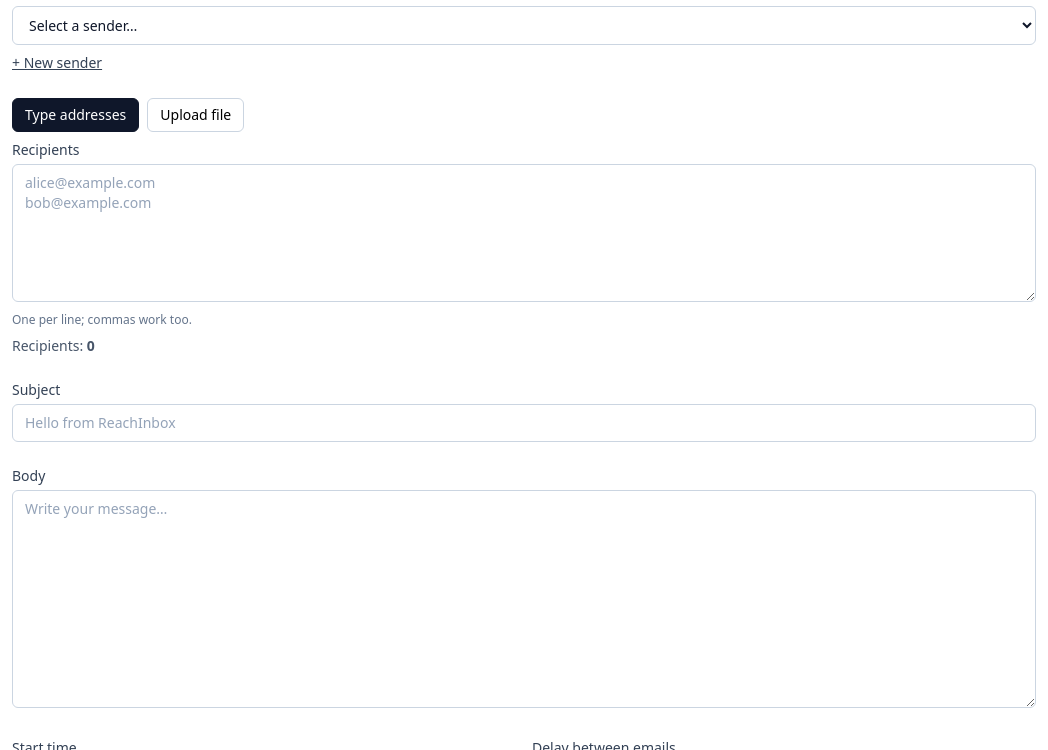
Test: ComposePage validation › surfaces scheduling errors without crashing
Select "News ‹news@example.com›" in the dropdown at (524, 26), box [12,6,1036,45]
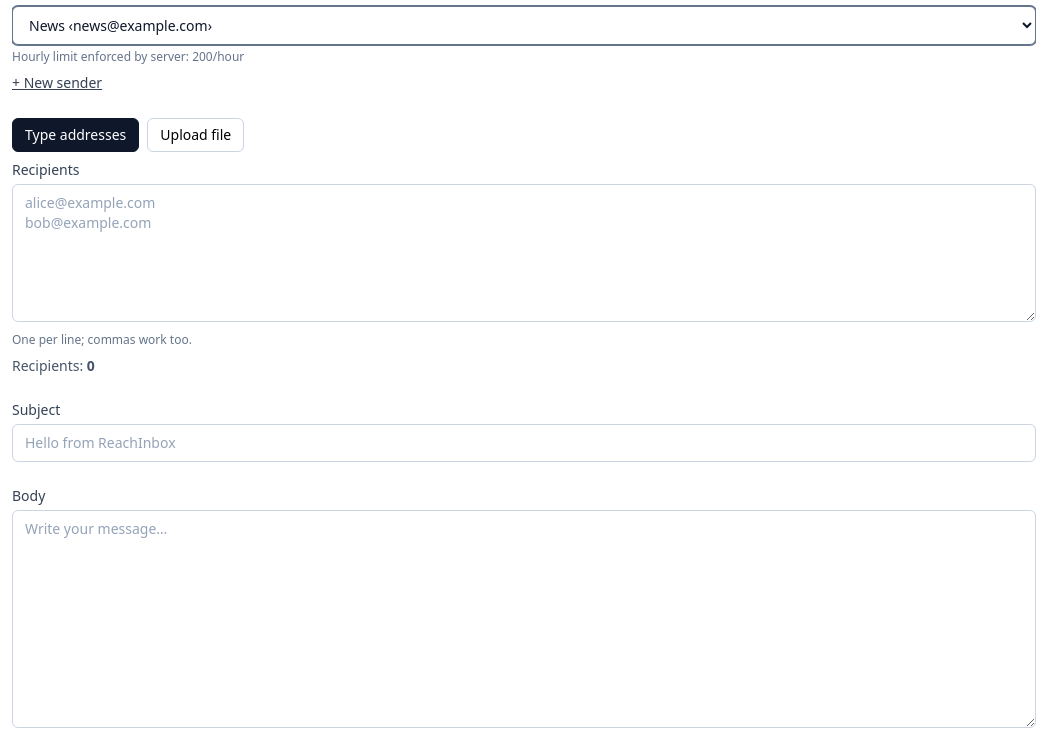
Type "Hi" into the field labelled "Subject" at (524, 443), box [12,424,1036,462]
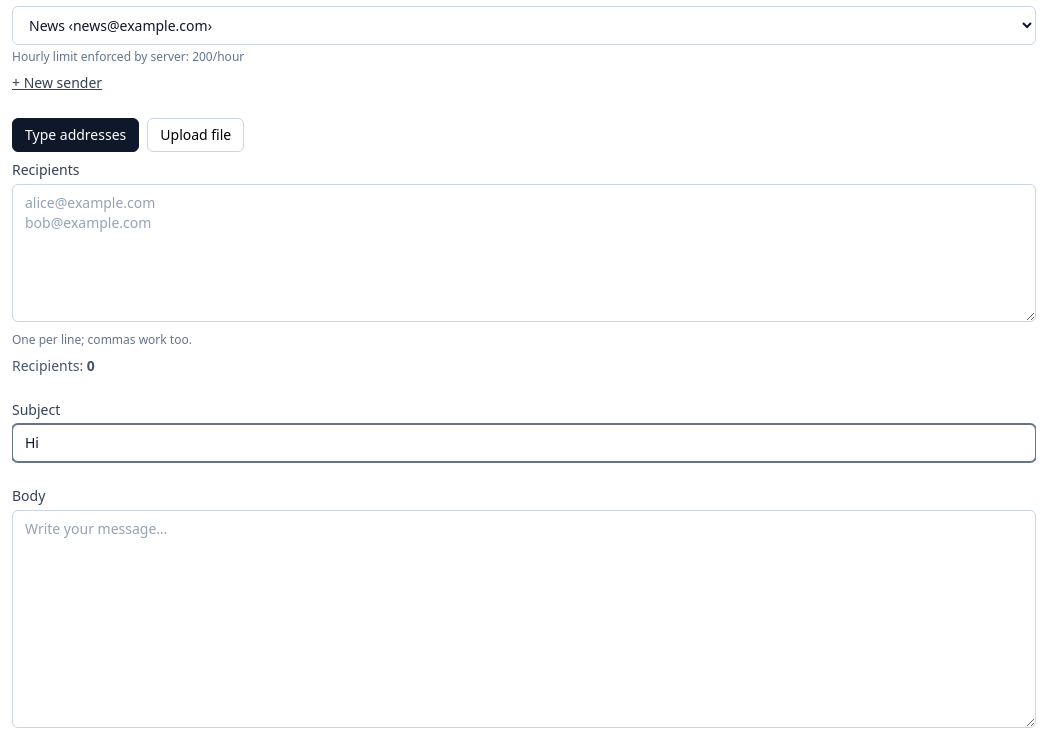
Type "Hello" into the text box labelled "Body" at (524, 619), box [12,510,1036,728]
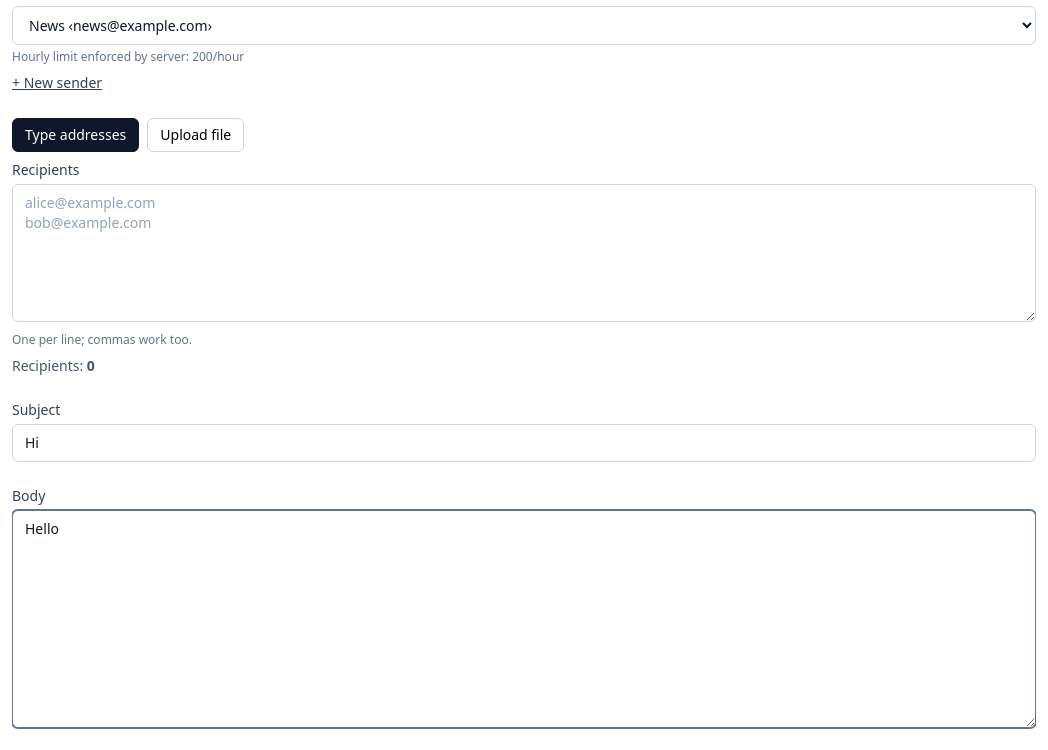
Type "a@example.com" into the text box labelled "Recipients" at (524, 253), box [12,184,1036,322]
(page scrolled)
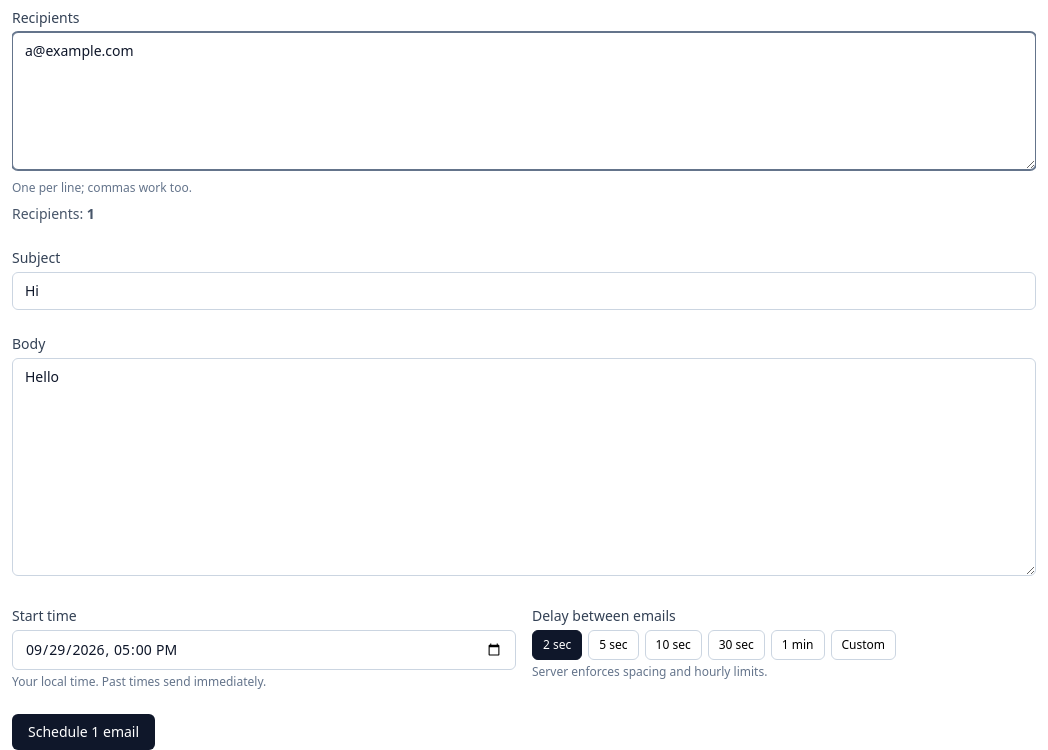
Click the button "Schedule 1 email" at (84, 732), box [12,714,155,749]
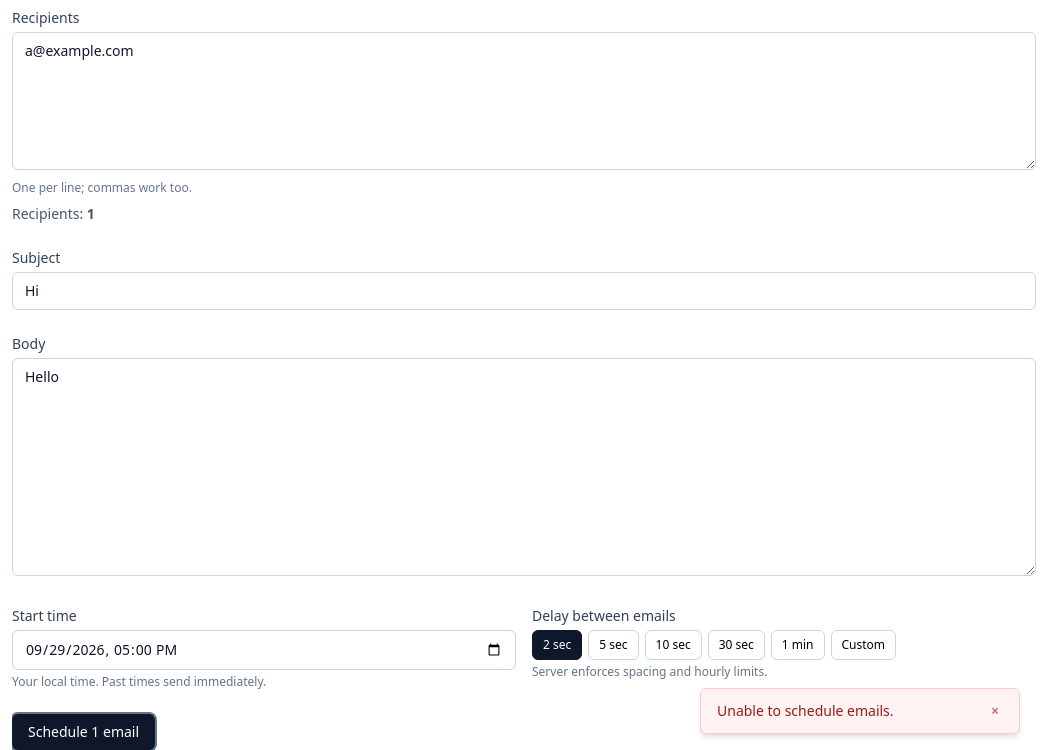
Expected: the text "Unable to schedule emails." is shown, [717,701,894,721]
